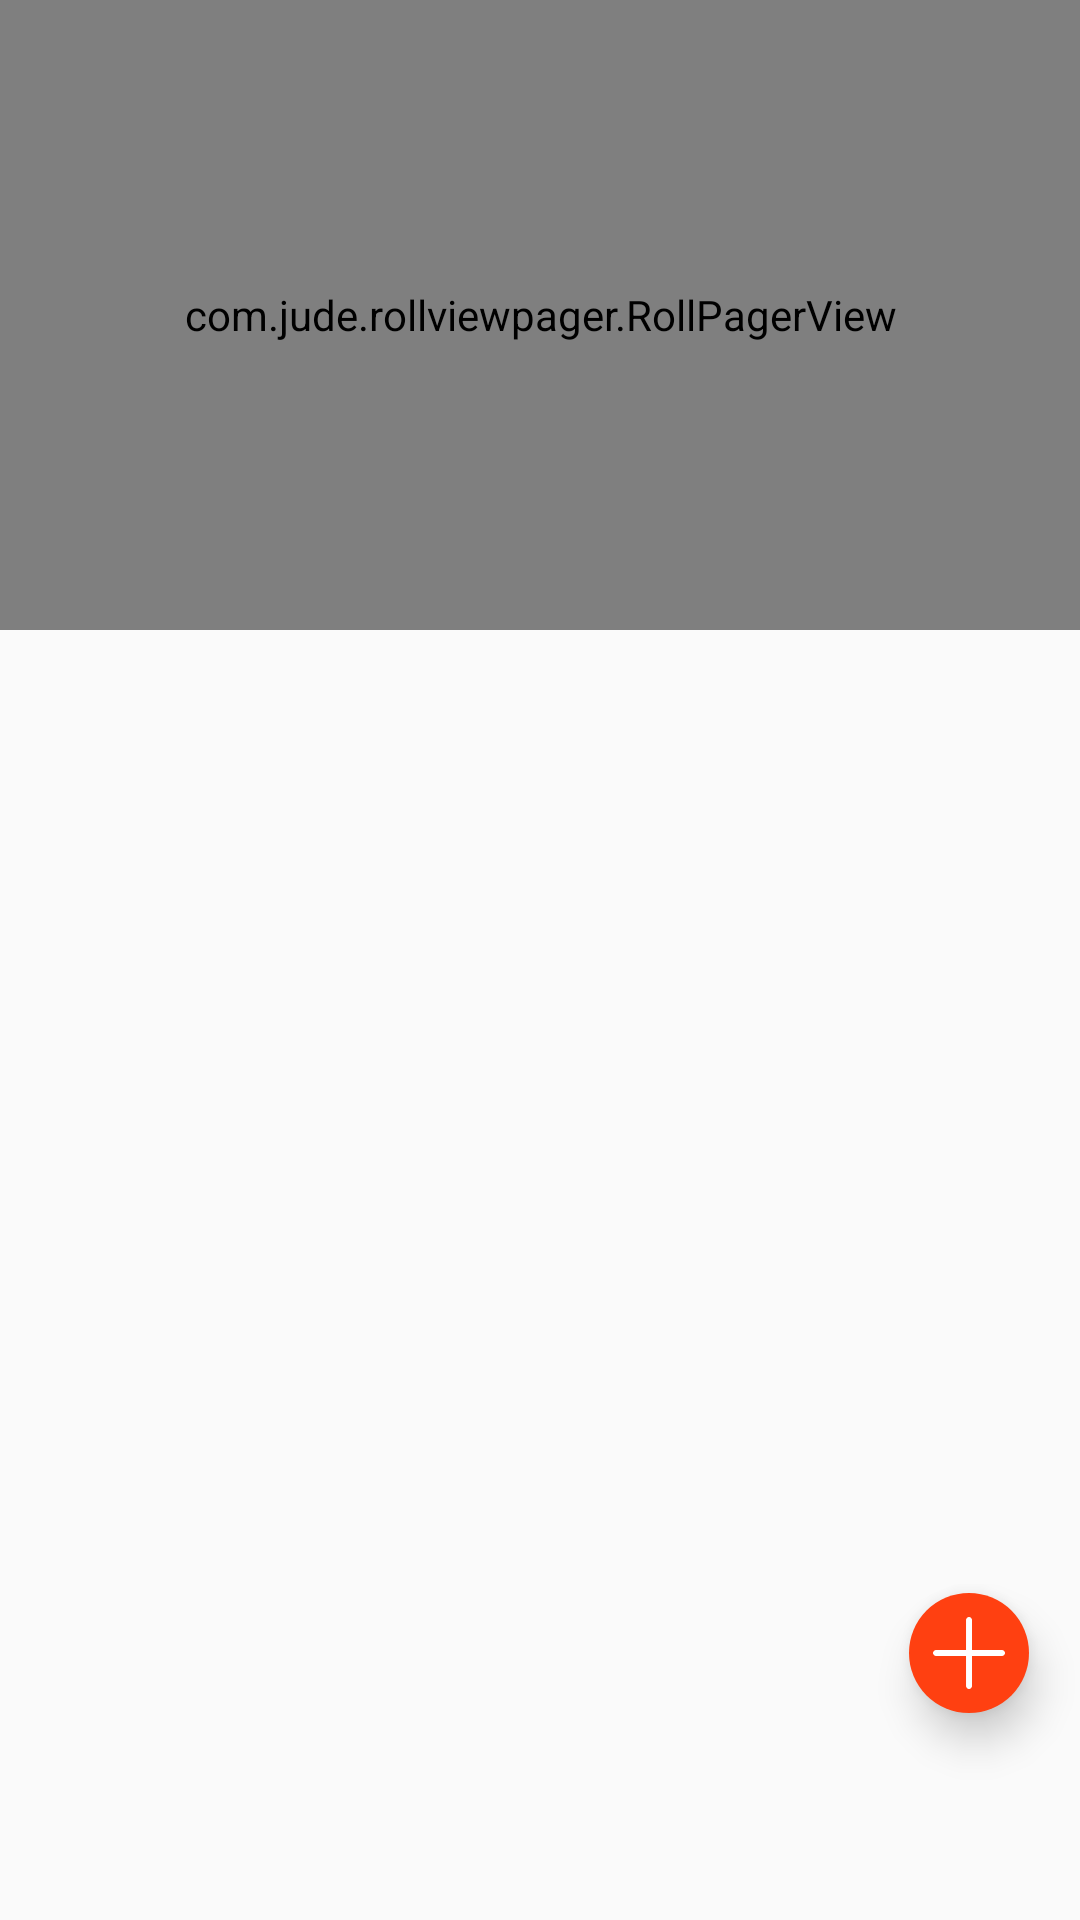

Icons on this 1080×1920 Android screen, each with its box as (x1, y1, x2, y2):
add: (909, 1593, 1029, 1713)
